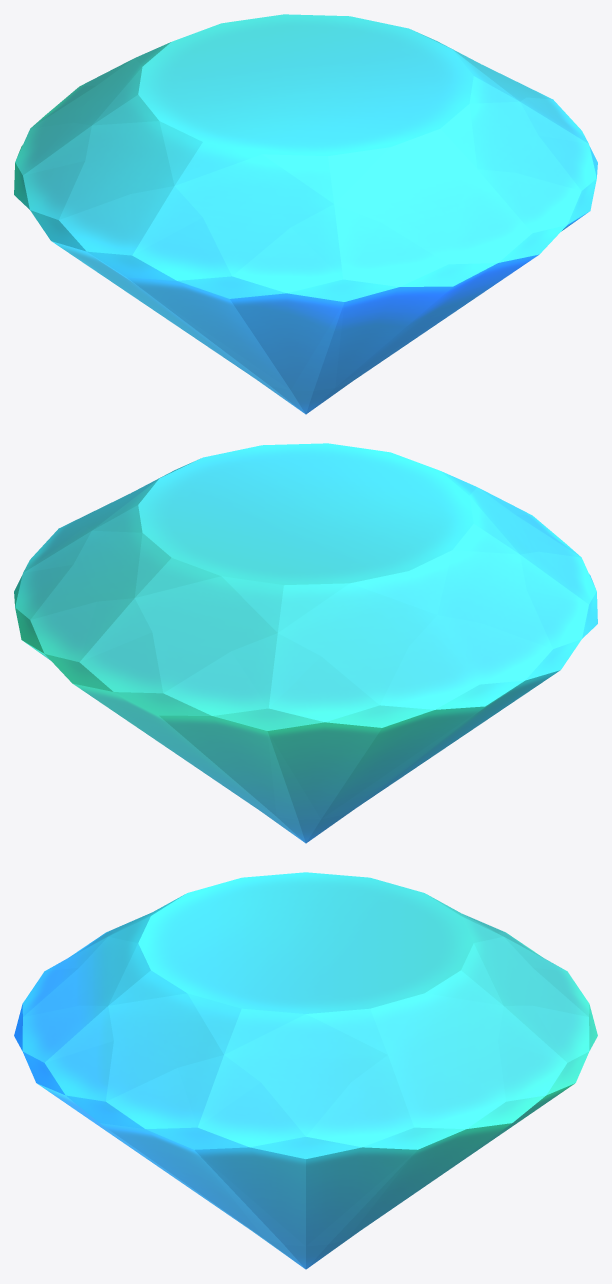
The picture shows the model from 3 angles, top to bottom: view 1: azimuth 30°, elevation 25°; view 2: azimuth 150°, elevation 25°; view 3: azimuth 270°, elevation 25°; orthographic projection.
Visible parts, largest first — view 1: pCone1; view 2: pCone1; view 3: pCone1.
Part boxes in pixels (bbox=[...]): pCone1: bbox=[14, 14, 597, 414]; pCone1: bbox=[14, 443, 597, 843]; pCone1: bbox=[14, 872, 597, 1269].
Bounding box in the file's own units: 2 × 1.23 × 2.
Materials: 1 (1 with a texture image).
